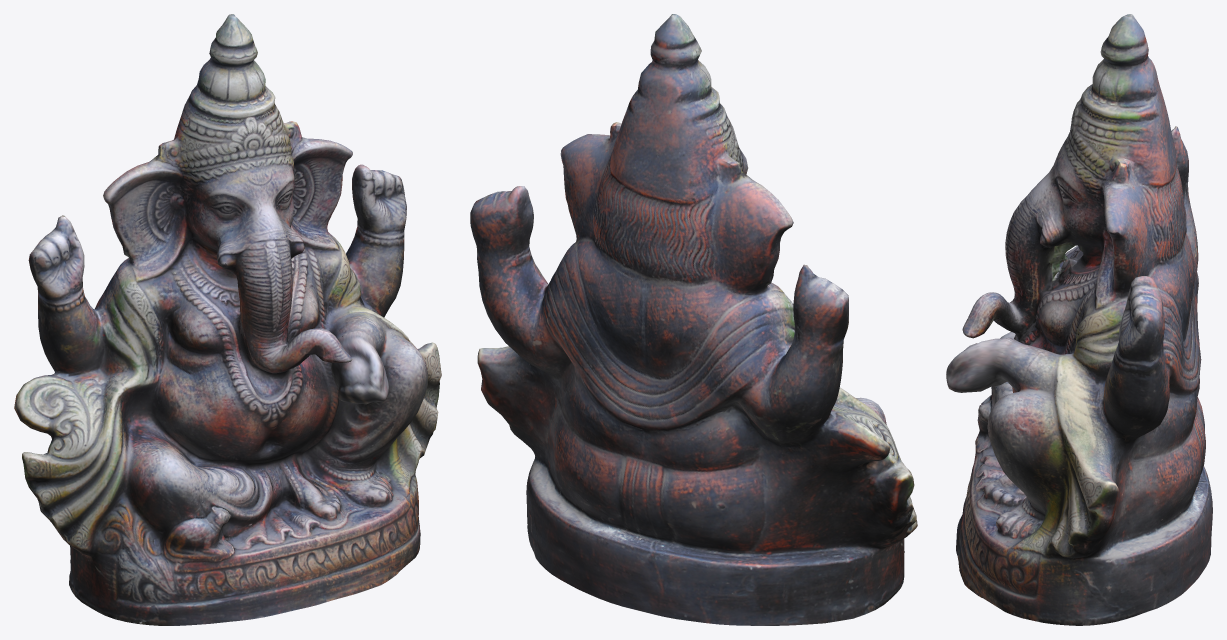
Rendered from ganesh.glb.
The picture shows the model from 3 angles, left to right: view 1: azimuth 30°, elevation 25°; view 2: azimuth 150°, elevation 25°; view 3: azimuth 270°, elevation 25°; orthographic projection. The views are drawn at different scales.
Visible parts, largest first — view 1: Gake-; view 2: Gake-; view 3: Gake-.
Boxes of the visible parts, x1,y1,x2,y2 form: Gake-: [14, 14, 441, 625]; Gake-: [470, 14, 917, 625]; Gake-: [946, 14, 1212, 625].
Size of the model in its own units: 2.75 by 3.39 by 1.52.
1 material, 1 textured.
